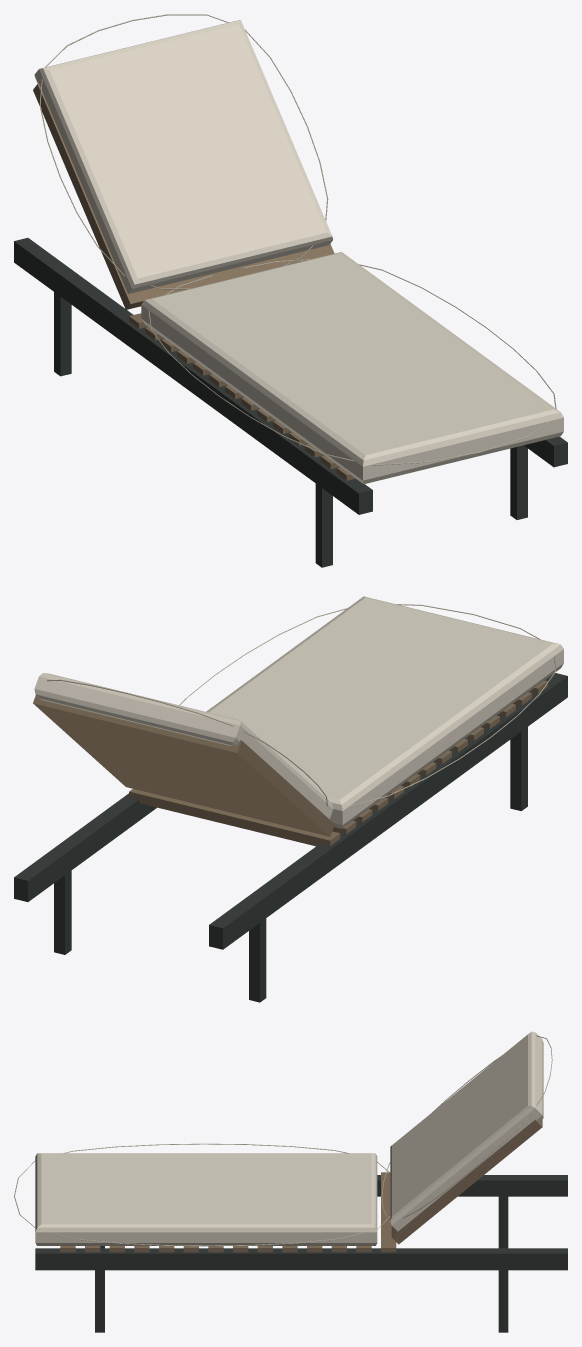
The model's file is lounge-chair-lod2.glb.
3 renders of one model, top to bottom at view 1: azimuth 30°, elevation 25°; view 2: azimuth 150°, elevation 25°; view 3: azimuth 270°, elevation 25°, orthographic. The views are drawn at different scales.
Visible parts, largest first — view 1: Natural woven outdoor cushion, Powder-coated charcoal frame, Warm teak slats, Cushion stitched piping; view 2: Natural woven outdoor cushion, Warm teak slats, Powder-coated charcoal frame, Cushion stitched piping; view 3: Natural woven outdoor cushion, Powder-coated charcoal frame, Warm teak slats, Cushion stitched piping.
Part boxes in pixels (x1,y1,x2,y2): Natural woven outdoor cushion: [34, 20, 563, 484]; Powder-coated charcoal frame: [14, 238, 567, 567]; Warm teak slats: [33, 84, 355, 480]; Cushion stitched piping: [39, 14, 556, 465]; Natural woven outdoor cushion: [34, 596, 563, 828]; Warm teak slats: [33, 680, 547, 846]; Powder-coated charcoal frame: [14, 673, 567, 1002]; Cushion stitched piping: [47, 604, 556, 806]; Natural woven outdoor cushion: [35, 1031, 543, 1245]; Powder-coated charcoal frame: [35, 1175, 567, 1332]; Warm teak slats: [60, 1119, 542, 1252]; Cushion stitched piping: [14, 1035, 552, 1246].
Size of the model in its own units: 0.8639 by 0.9263 by 1.98.
